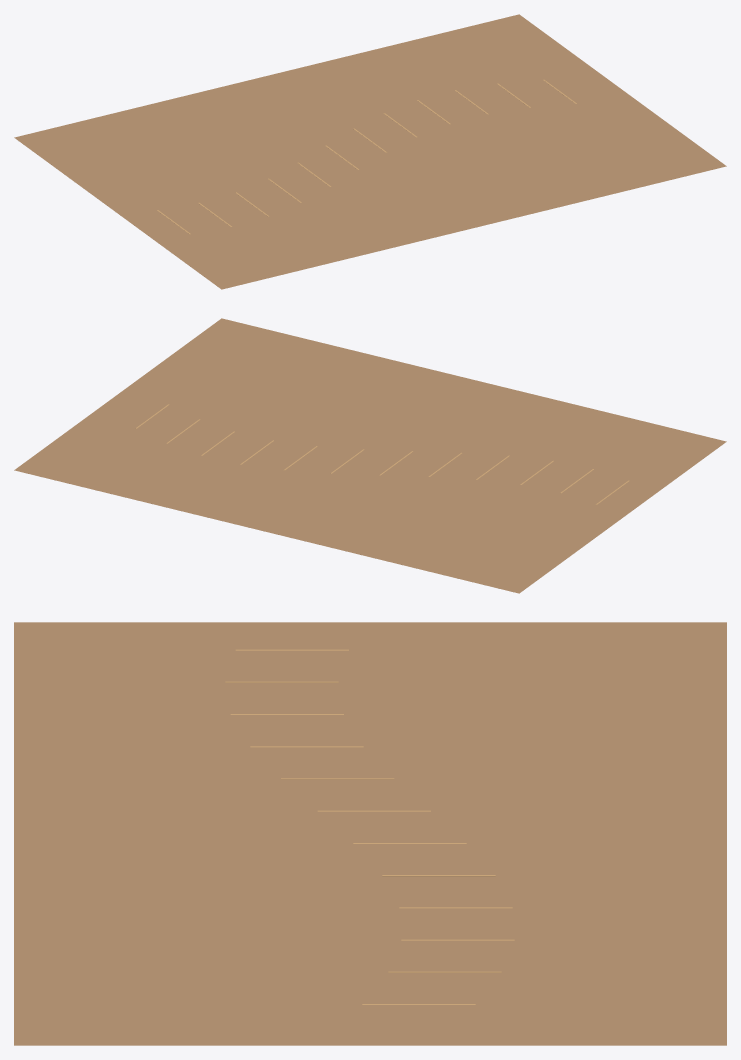
Rendered from 270_L119_L21_LayerReference.glb.
3 renders of one model, top to bottom at view 1: azimuth 30°, elevation 25°; view 2: azimuth 150°, elevation 25°; view 3: azimuth 270°, elevation 25°, orthographic. The views are drawn at different scales.
Visible parts, largest first — view 1: 0000__PSMAT__copper_dark; view 2: 0000__PSMAT__copper_dark; view 3: 0000__PSMAT__copper_dark.
Boxes of the visible parts, x1=… form: 0000__PSMAT__copper_dark: x1=14, y1=14, x2=726, y2=289; 0000__PSMAT__copper_dark: x1=14, y1=318, x2=726, y2=593; 0000__PSMAT__copper_dark: x1=14, y1=622, x2=726, y2=1045.
Size of the model in its own units: 0.486 by 9.4e-05 by 0.346.
